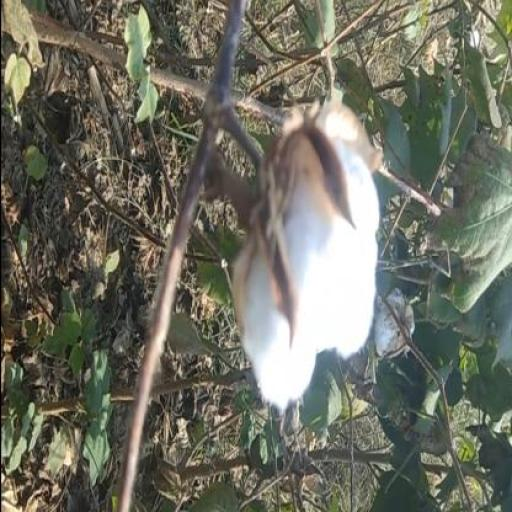cotton_ready: (192, 99, 399, 419)
